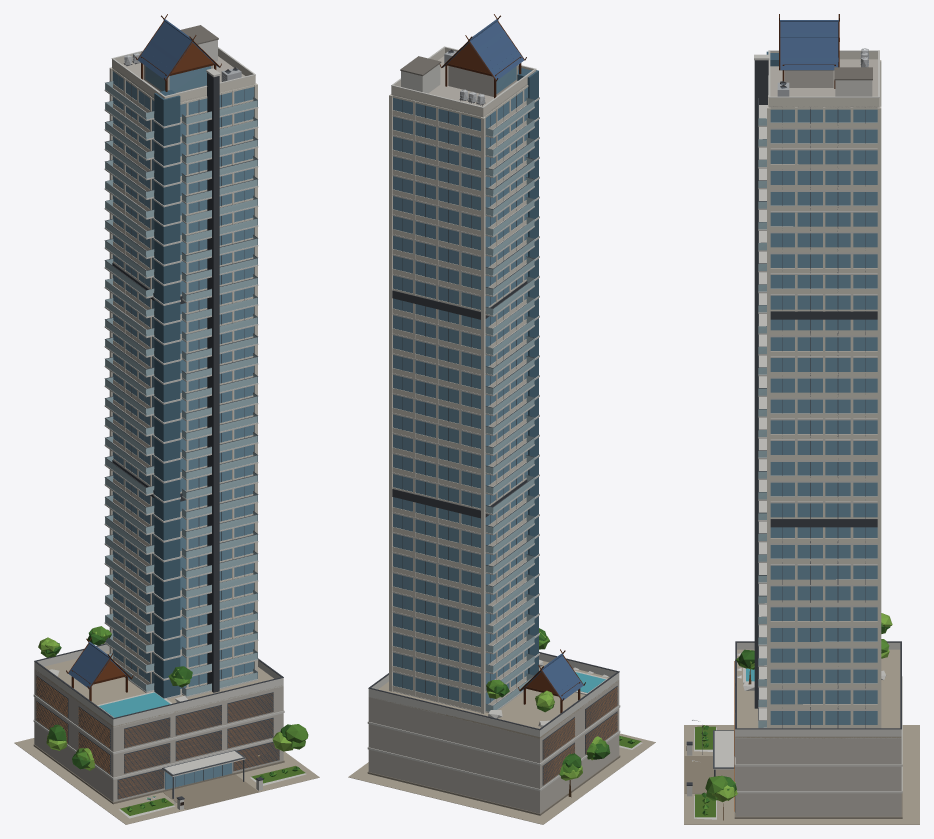
The model's file is home_5.glb.
3 views of the same model, side by side, from view 1: azimuth 30°, elevation 25°; view 2: azimuth 150°, elevation 25°; view 3: azimuth 270°, elevation 25° (orthographic). The views are drawn at different scales.
Parts seen in each view (by area): view 1: body; view 2: body; view 3: body.
Boxes of the visible parts, bbox=[...] form: body: bbox=[14, 14, 319, 824]; body: bbox=[348, 14, 655, 824]; body: bbox=[684, 14, 919, 824].
Size of the model in its own units: 33.07 by 115 by 31.9.
